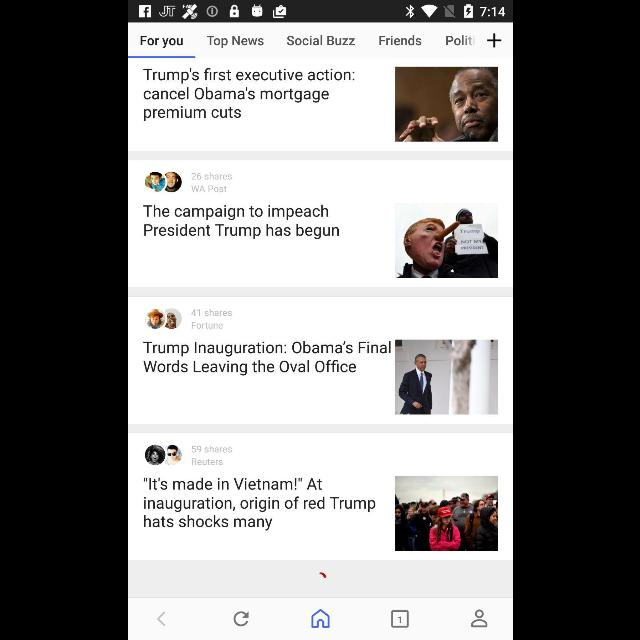icon: (310, 608, 330, 628), (470, 609, 488, 627), (232, 611, 248, 627), (486, 34, 500, 48), (156, 612, 164, 626)
image: (394, 476, 498, 552), (394, 340, 498, 414), (394, 204, 498, 278), (394, 68, 498, 142), (144, 308, 182, 329), (144, 444, 180, 466), (144, 172, 182, 192), (390, 610, 408, 628)
multitab: (128, 23, 512, 58)
text: (143, 478, 375, 530), (142, 68, 354, 122), (142, 342, 390, 376), (142, 204, 338, 240), (206, 36, 264, 49), (286, 36, 354, 46), (140, 36, 182, 49), (378, 36, 422, 46), (190, 308, 232, 318), (190, 445, 232, 453), (190, 172, 232, 180), (446, 34, 474, 46), (190, 185, 226, 193), (191, 458, 223, 466), (191, 321, 223, 329)
uppertaskbar: (128, 1, 512, 23)
